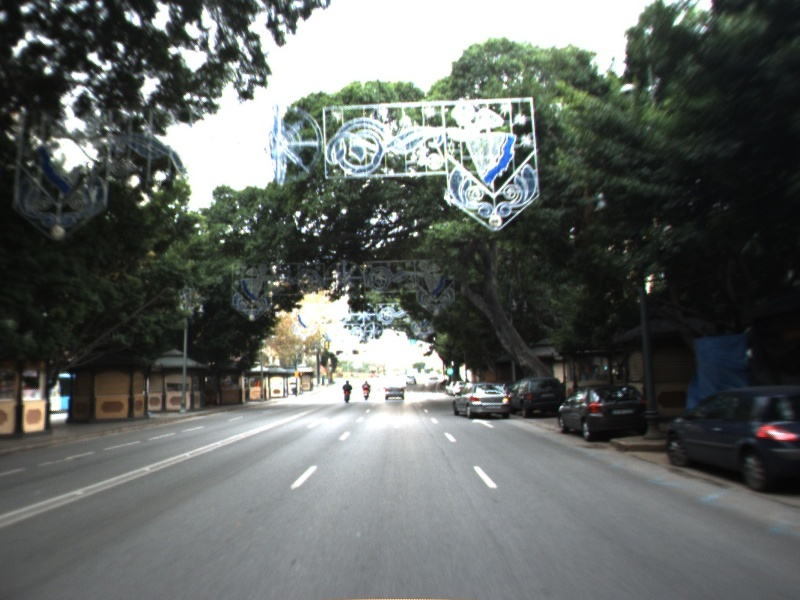STRAIGHT: (469, 416, 496, 430)
